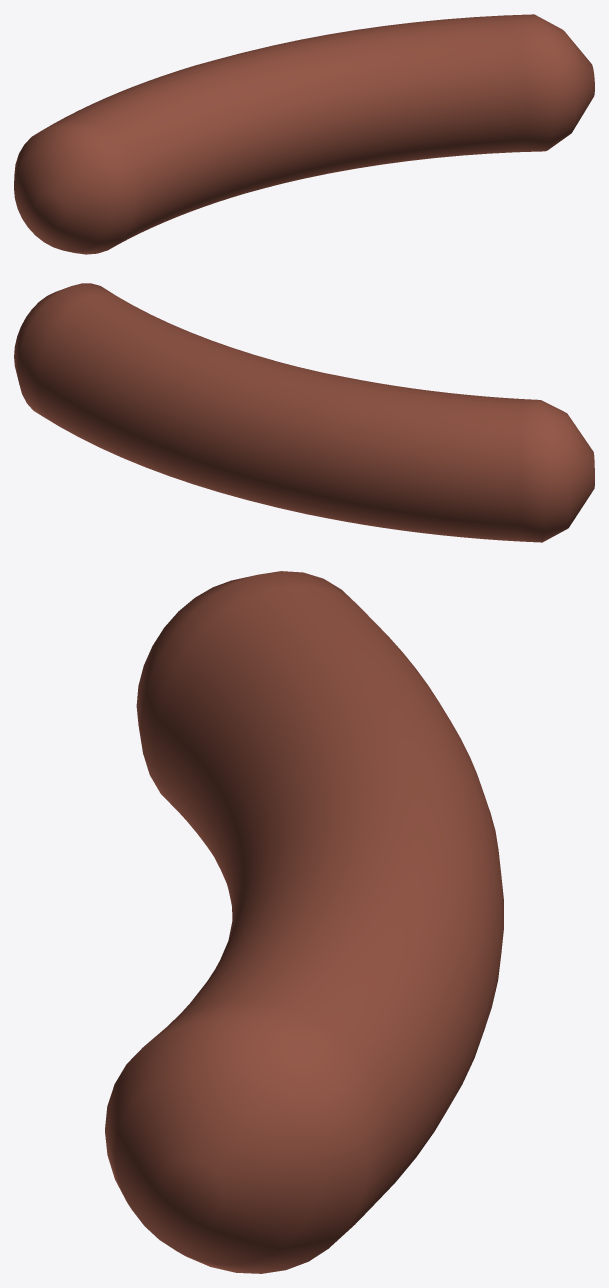
File: SausageCooked-Lowpoly.fbx
3 renders of one model, top to bottom at view 1: azimuth 30°, elevation 25°; view 2: azimuth 150°, elevation 25°; view 3: azimuth 270°, elevation 25°, orthographic. The views are drawn at different scales.
Visible parts, largest first — view 1: sausageCoocked; view 2: sausageCoocked; view 3: sausageCoocked.
Part boxes in pixels (<box>): sausageCoocked: <box>14,14,594,254</box>; sausageCoocked: <box>14,283,594,542</box>; sausageCoocked: <box>105,571,503,1273</box>.
Bounding box in the file's own units: 81.87 × 17.71 × 25.65.
